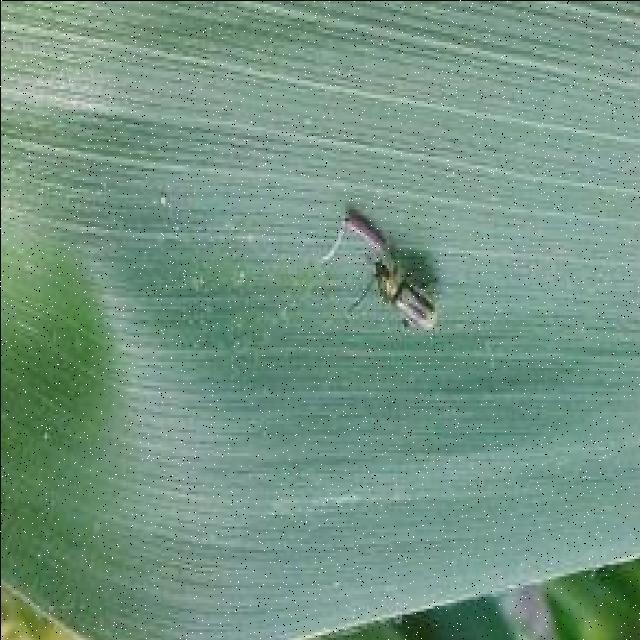trips: (358, 255, 446, 339)
